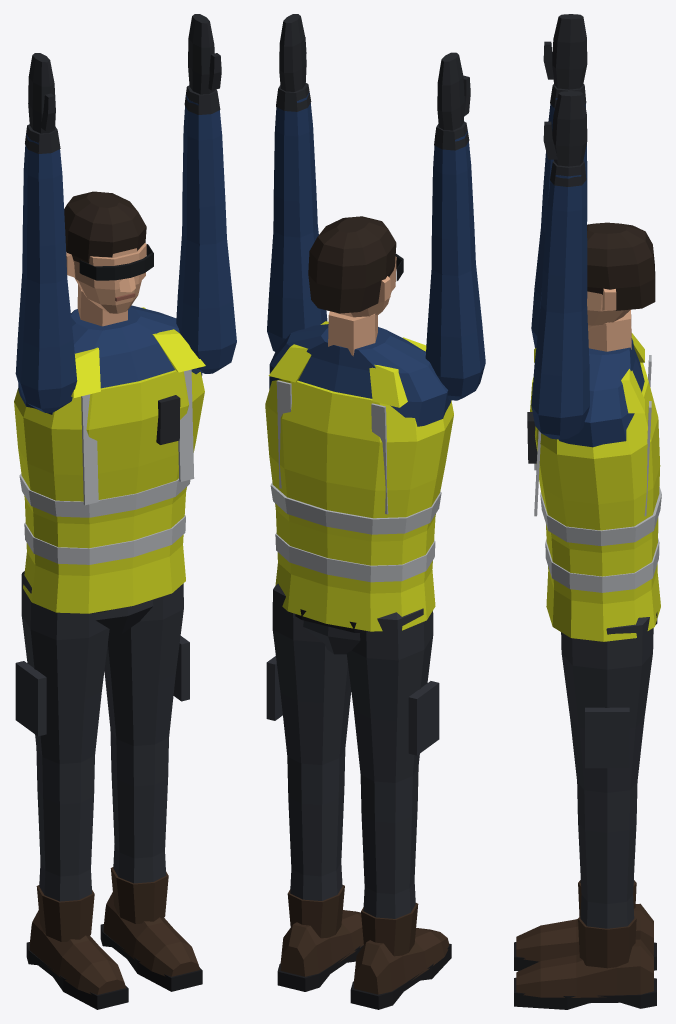
File: start_official.glb
3 views of the same model, side by side, from view 1: azimuth 30°, elevation 25°; view 2: azimuth 150°, elevation 25°; view 3: azimuth 270°, elevation 25° (orthographic).
Parts seen in each view (by area): view 1: Body, LegR, LegL, ArmR, ArmL; view 2: Body, LegR, LegL, ArmR, ArmL; view 3: Body, LegL, ArmL, ArmR, LegR.
Boxes of the visible parts, bbox=[...] form: Body: bbox=[14, 191, 205, 633]; LegR: bbox=[15, 571, 128, 1009]; LegL: bbox=[100, 583, 202, 991]; ArmR: bbox=[15, 53, 77, 412]; ArmL: bbox=[176, 14, 236, 373]; Body: bbox=[265, 216, 453, 654]; LegR: bbox=[346, 608, 451, 1009]; LegL: bbox=[266, 583, 363, 991]; ArmR: bbox=[425, 52, 485, 400]; ArmL: bbox=[267, 14, 327, 351]; Body: bbox=[527, 222, 661, 641]; LegL: bbox=[514, 617, 656, 1009]; ArmL: bbox=[531, 91, 589, 439]; ArmR: bbox=[531, 14, 587, 348]; LegR: bbox=[514, 879, 656, 971].
Size of the model in its own units: 0.5179 by 2.2 by 0.3182.
